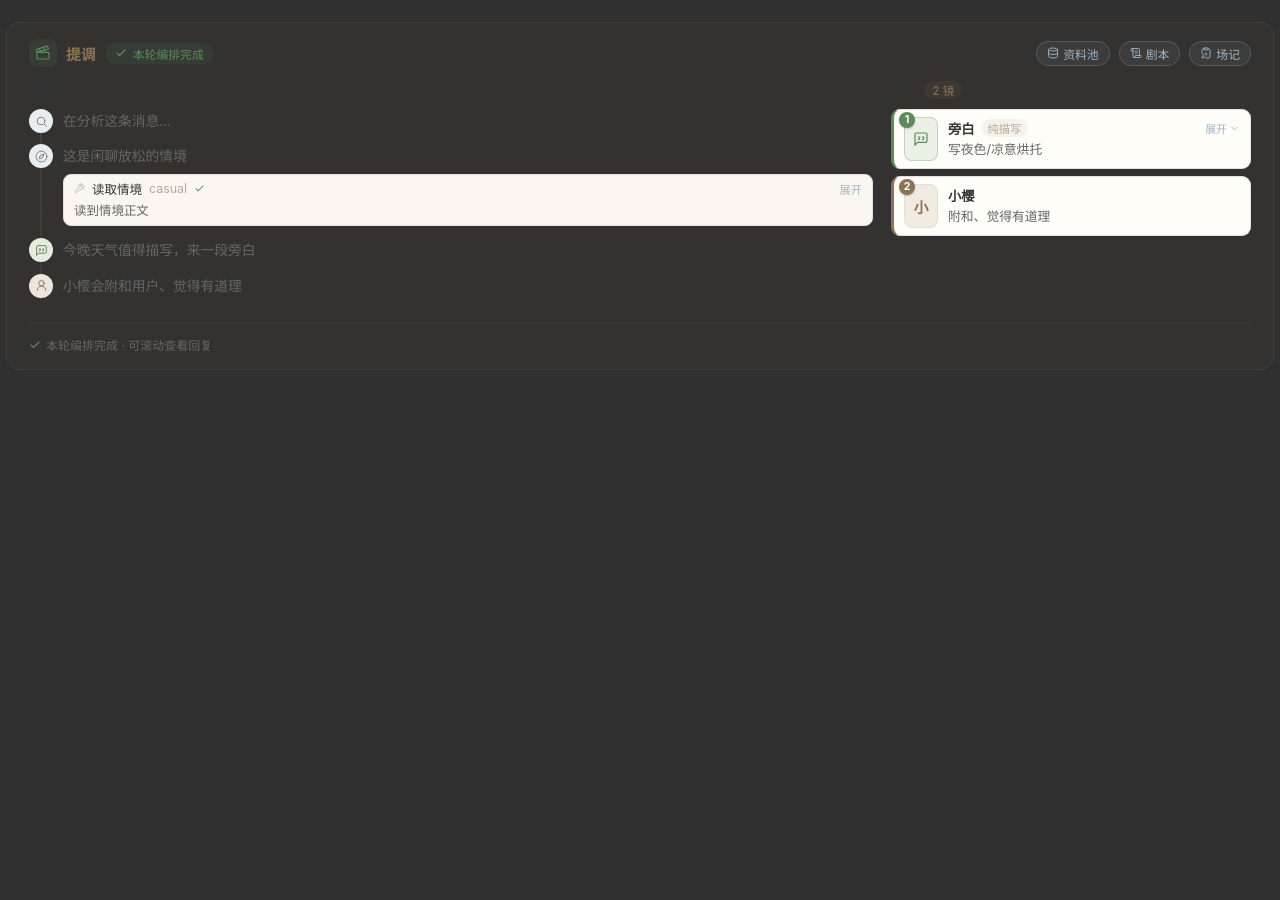
Test case: TidiaoDirectorStreamBand › 批次4·C 资料池入口 › 池非空：挂「资料池」入口，点击展开侧栏抽屉
This screenshot has width=1280, height=900.
Click the button with class "tds-entry" showing "资料池".
click(1073, 53)  # box [1036, 40, 1110, 66]
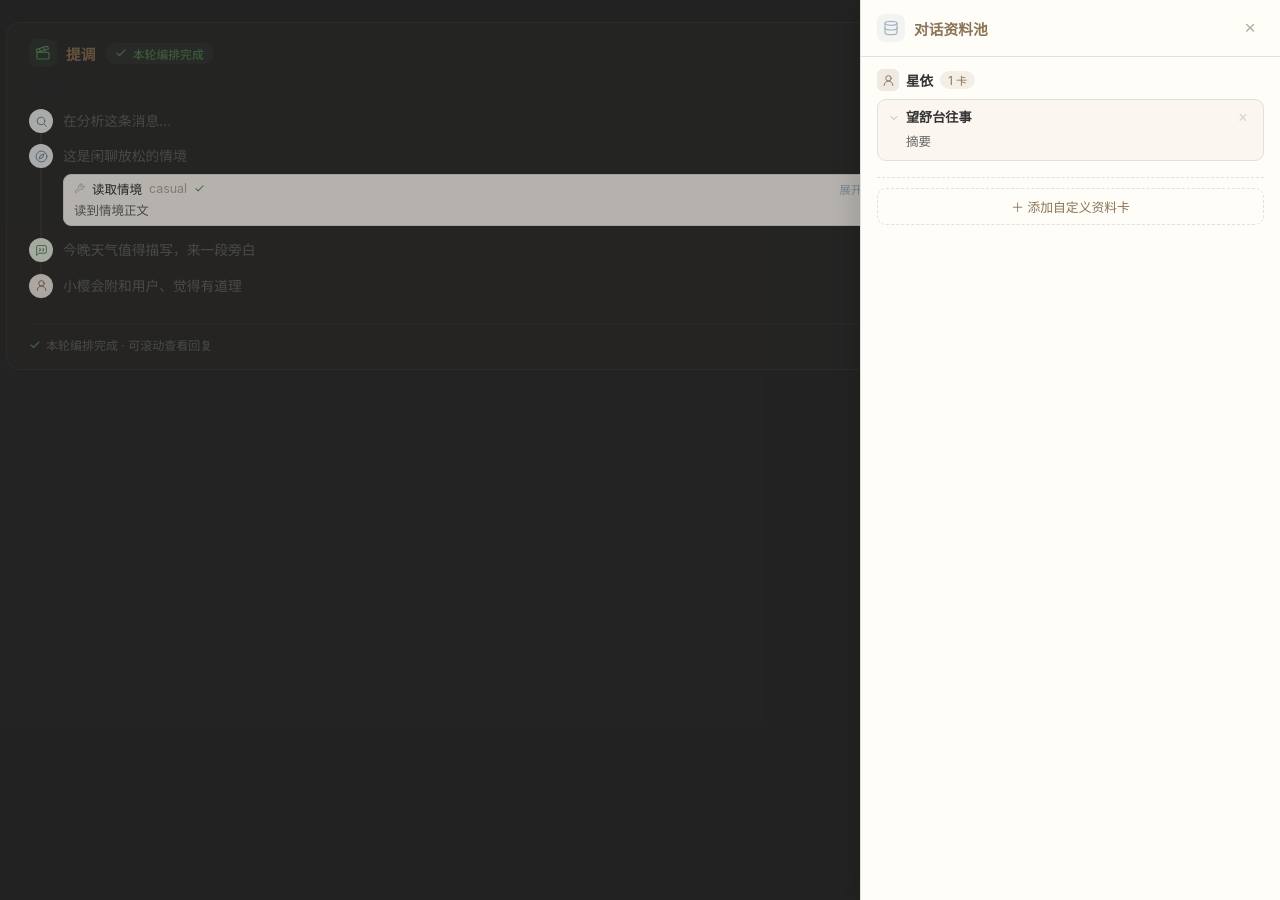
Expected: the dialog with class "rrp" is shown, [860, 0, 1279, 899]
Expected: the text "望舒台往事" is shown, [906, 108, 972, 127]
